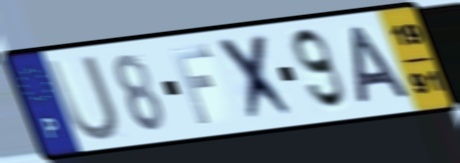8: (112, 51, 167, 133)
9: (288, 27, 348, 115)
A: (349, 23, 416, 108)
F: (167, 43, 217, 127)
U: (43, 52, 122, 145)
X: (213, 30, 302, 126)
